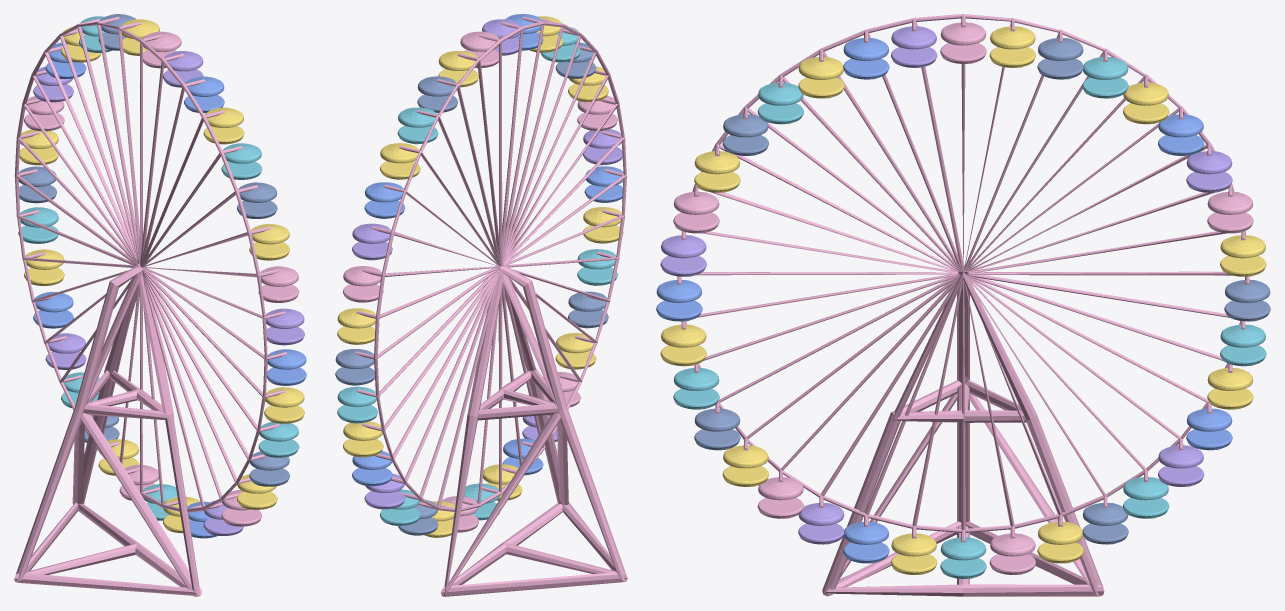
Rendered from 馬卡龍摩天輪.fbx.
3 renders of one model, left to right at view 1: azimuth 30°, elevation 25°; view 2: azimuth 150°, elevation 25°; view 3: azimuth 270°, elevation 25°, orthographic. The views are drawn at different scales.
Visible parts, largest first — view 1: Circle.075, Plane.023, Circle.085, Circle.086, Circle.087, Circle.084, Circle.088, Circle.089, Circle.090, Circle.092, Circle.091, Circle.107 (+25 smaller); view 2: Circle.075, Plane.023, Circle.105, Circle.104, Circle.103, Circle.106, Circle.102, Circle.100, Circle.099, Circle.101, Circle.098, Circle.083 (+25 smaller); view 3: Circle.075, Plane.023, Circle.083, Circle.101, Circle.089, Circle.107, Circle.085, Circle.097, Circle.088, Circle.102, Circle.104, Circle.082 (+26 smaller).
Boxes of the visible parts, x1,y1,x2,y2 form: Circle.075: (14, 16, 287, 512); Plane.023: (14, 263, 201, 596); Circle.085: (264, 387, 304, 423); Circle.086: (267, 349, 306, 385); Circle.087: (265, 308, 304, 345); Circle.084: (258, 422, 299, 457); Circle.088: (258, 266, 299, 302); Circle.089: (249, 224, 289, 260); Circle.090: (237, 182, 277, 218); Circle.092: (203, 107, 244, 144); Circle.091: (221, 143, 262, 179); Circle.107: (33, 291, 73, 328); Circle.075: (354, 16, 626, 511); Plane.023: (441, 263, 627, 596); Circle.105: (337, 386, 377, 423); Circle.104: (335, 349, 374, 385); Circle.103: (337, 308, 375, 344); Circle.106: (343, 421, 383, 457); Circle.102: (343, 266, 383, 302); Circle.100: (364, 182, 405, 218); Circle.099: (380, 143, 420, 179); Circle.101: (352, 223, 392, 260); Circle.098: (397, 107, 438, 144); Circle.083: (568, 291, 608, 328); Circle.075: (677, 14, 1249, 542); Plane.023: (822, 265, 1104, 596); Circle.083: (694, 408, 740, 450); Circle.101: (1186, 151, 1232, 192); Circle.089: (694, 151, 740, 192); Circle.107: (1186, 408, 1232, 450); Circle.085: (660, 324, 706, 366); Circle.097: (1037, 38, 1083, 79); Circle.088: (673, 191, 719, 233); Circle.102: (1207, 191, 1253, 233); Circle.104: (1224, 280, 1270, 321); Circle.082: (722, 445, 768, 486).
Size of the model in its own units: 8222 by 2902 by 8631.
